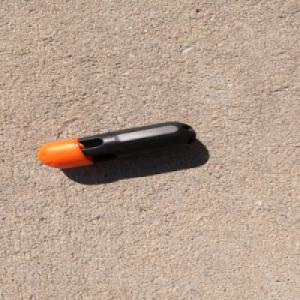PlasticPart: (35, 120, 198, 169)
